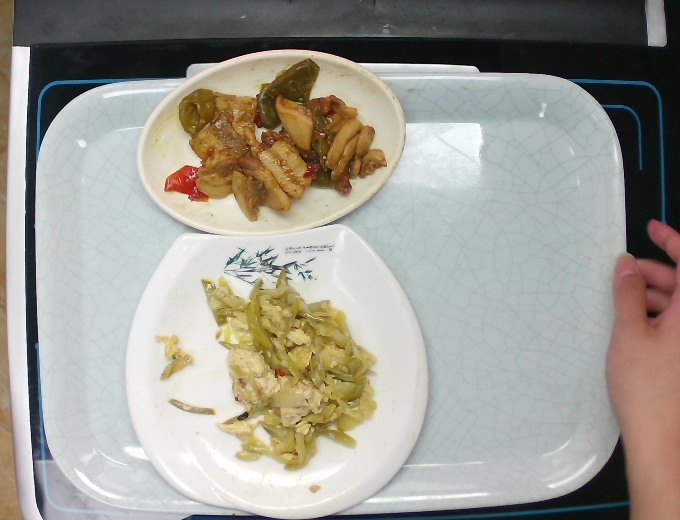JYsf-Mian_Pan: (121, 220, 432, 520)
JYsf-Tuo_Yuan_Wan: (135, 47, 408, 237)
